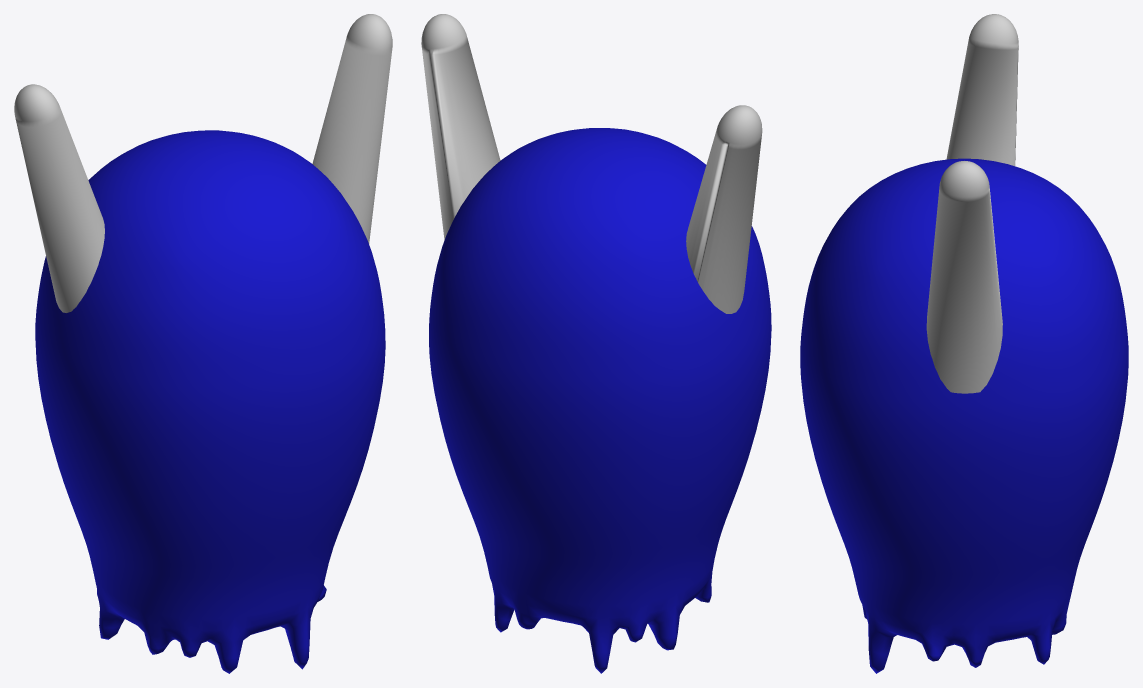
Rendered from beforeThrow_000033.obj.
The picture shows the model from 3 angles, left to right: view 1: azimuth 30°, elevation 25°; view 2: azimuth 150°, elevation 25°; view 3: azimuth 270°, elevation 25°; orthographic projection. The views are drawn at different scales.
Parts seen in each view (by area): view 1: Cube, Sphere.001, Sphere; view 2: Cube, Sphere.001, Sphere; view 3: Cube, Sphere, Sphere.001.
Boxes of the visible parts, x1,y1,x2,y2 form: Cube: (35,130,385,673); Sphere.001: (14,84,104,312); Sphere: (312,14,392,243); Cube: (429,128,771,673); Sphere.001: (686,105,762,313); Sphere: (421,14,500,240); Cube: (800,158,1128,673); Sphere: (926,161,1002,393); Sphere.001: (946,14,1018,166).
Bounding box in the file's own units: 0.3414 × 0.543 × 0.2859.
